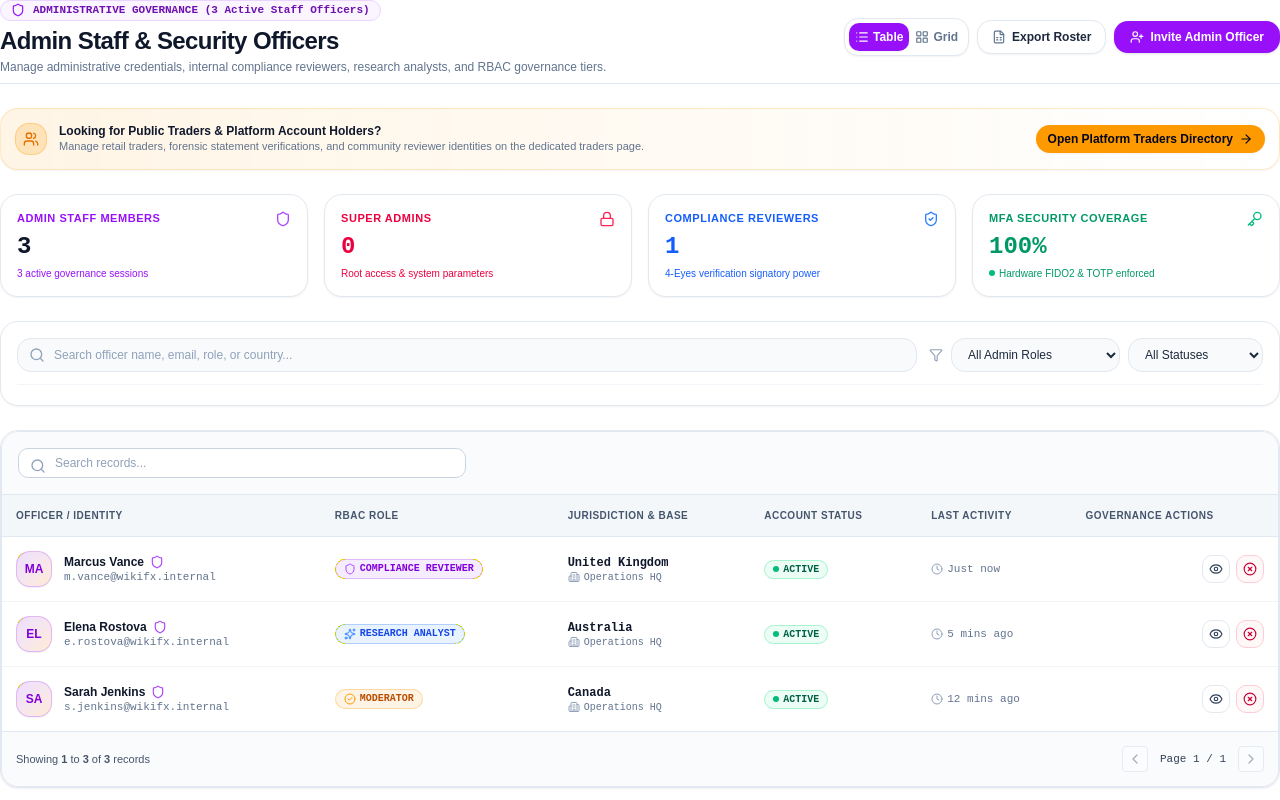
it: Admin Staff & Security Officers Page (/users, /users/admins) › opens invite admin officer modal
Step 1. Click the button "Invite Admin Officer" → (1197, 37), box [1114,21,1279,53]
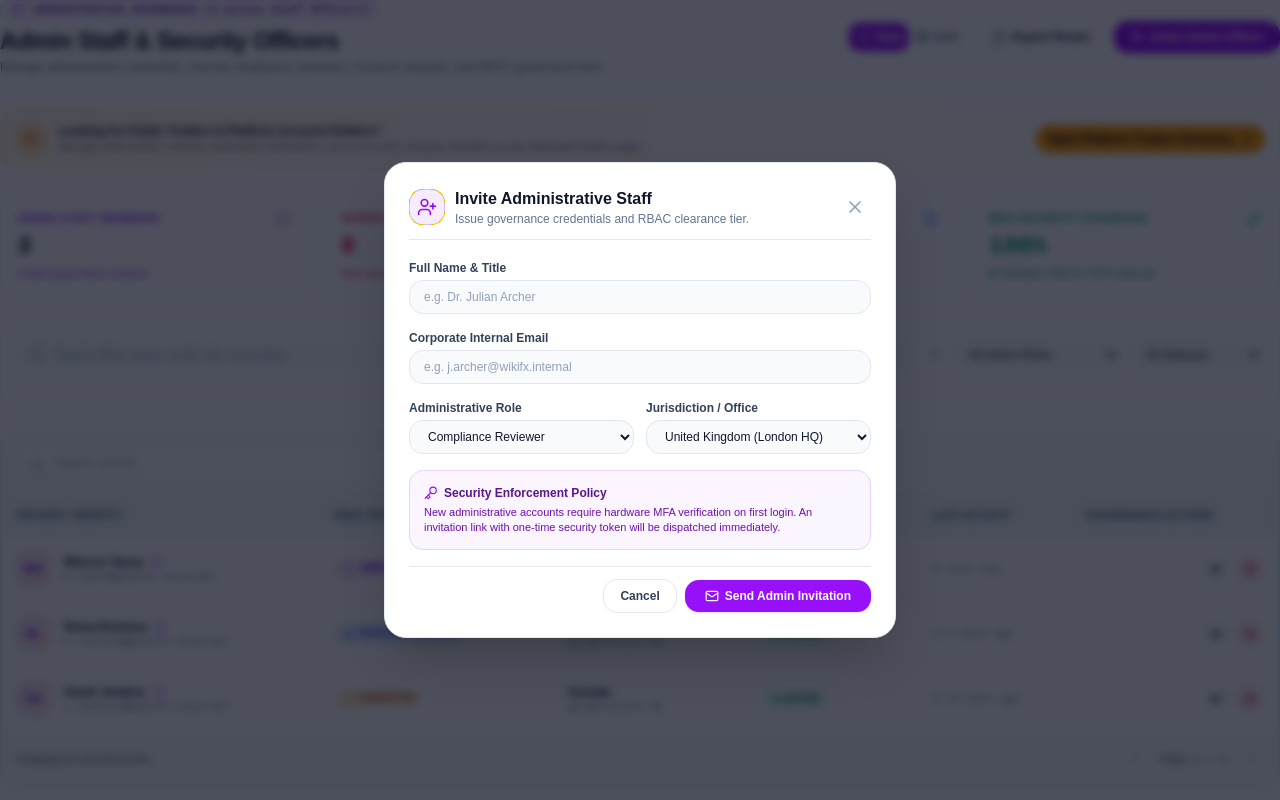
Result: the heading "Invite Administrative Staff" is shown at [455,190,652,207]
